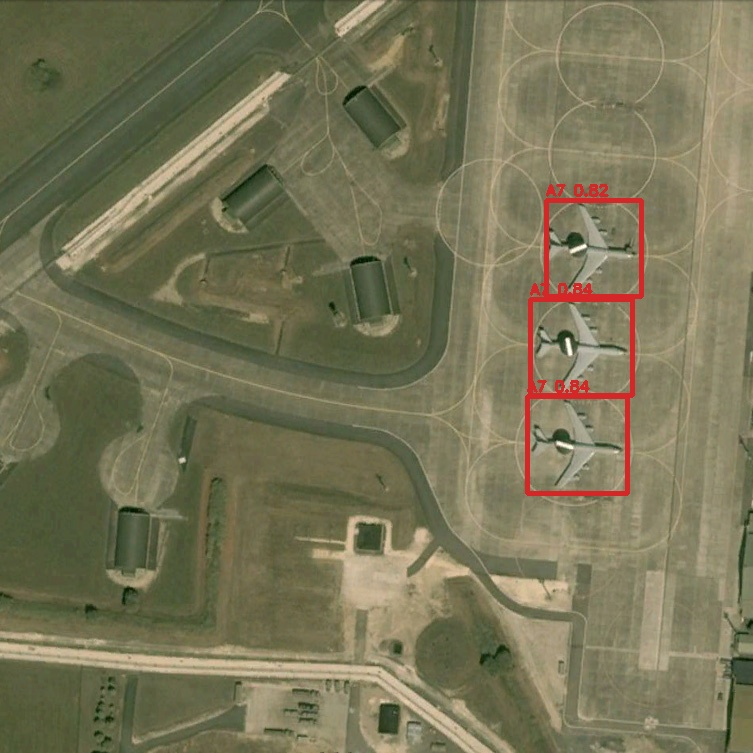A7: (530, 299, 632, 395), (527, 396, 627, 493), (546, 200, 641, 296)
